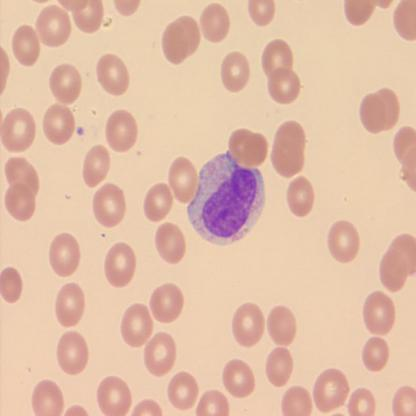Metamyelocyte: (186, 149, 267, 249)
